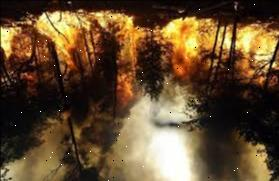fire: (0, 6, 141, 98), (167, 8, 279, 96)
